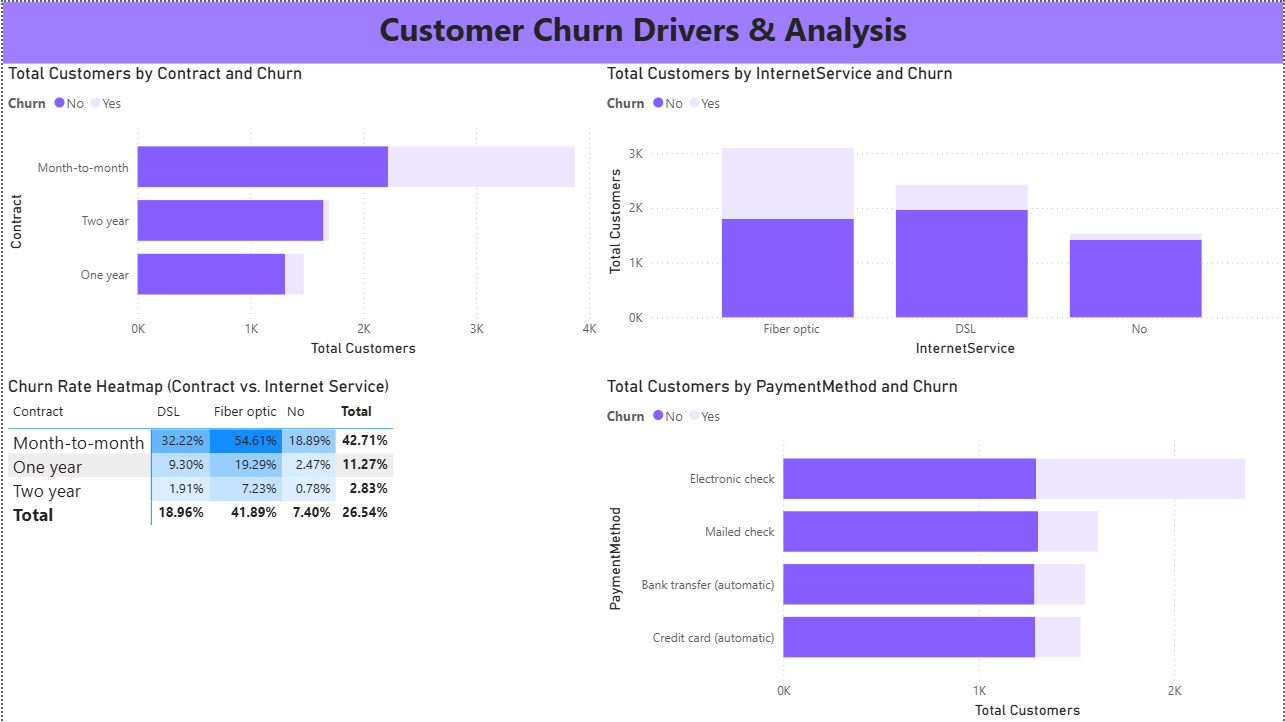

This screenshot's page, from the dashboard's own definition file:
{"tool":"powerbi","page":{"name":"Churn Analysis","canvas":[1280,720],"ordinal":1},"visuals":[{"type":"barChart","fields":{"Category":["Telco_Churn.Contract"],"Y":["Telco_Churn.Total Customers"],"Series":["Telco_Churn.Churn"]},"box":[0,61.7,598.3,297.8],"z":0},{"type":"barChart","fields":{"Category":["Telco_Churn.PaymentMethod"],"Y":["Telco_Churn.Total Customers"],"Series":["Telco_Churn.Churn"]},"box":[598.3,373.2,682,347.2],"z":1},{"type":"columnChart","fields":{"Category":["Telco_Churn.InternetService"],"Y":["Telco_Churn.Total Customers"],"Series":["Telco_Churn.Churn"]},"box":[598.3,61.7,682,297.8],"z":2},{"type":"pivotTable","title":"Churn Rate Heatmap (Contract vs. Internet Service)","fields":{"Rows":["Telco_Churn.Contract"],"Columns":["Telco_Churn.InternetService"],"Values":["Telco_Churn.Churn Rate"]},"box":[0,373.2,598.3,347.2],"z":3},{"type":"textbox","box":[0,0,1280.3,61.7],"z":4}]}

Visuals, with their boxes in screenshot pixels (x1, y1, x2, y2), scaled from the page's 1280x720 canvas onto the 1285x722 screenshot:
barChart - Telco_Churn.Contract x Telco_Churn.Total Customers: region(0, 62, 601, 360)
barChart - Telco_Churn.PaymentMethod x Telco_Churn.Total Customers: region(601, 374, 1284, 721)
columnChart - Telco_Churn.InternetService x Telco_Churn.Total Customers: region(601, 62, 1284, 360)
"Churn Rate Heatmap (Contract vs. Internet Service)" pivotTable: region(0, 374, 601, 721)
textbox: region(0, 0, 1284, 62)
